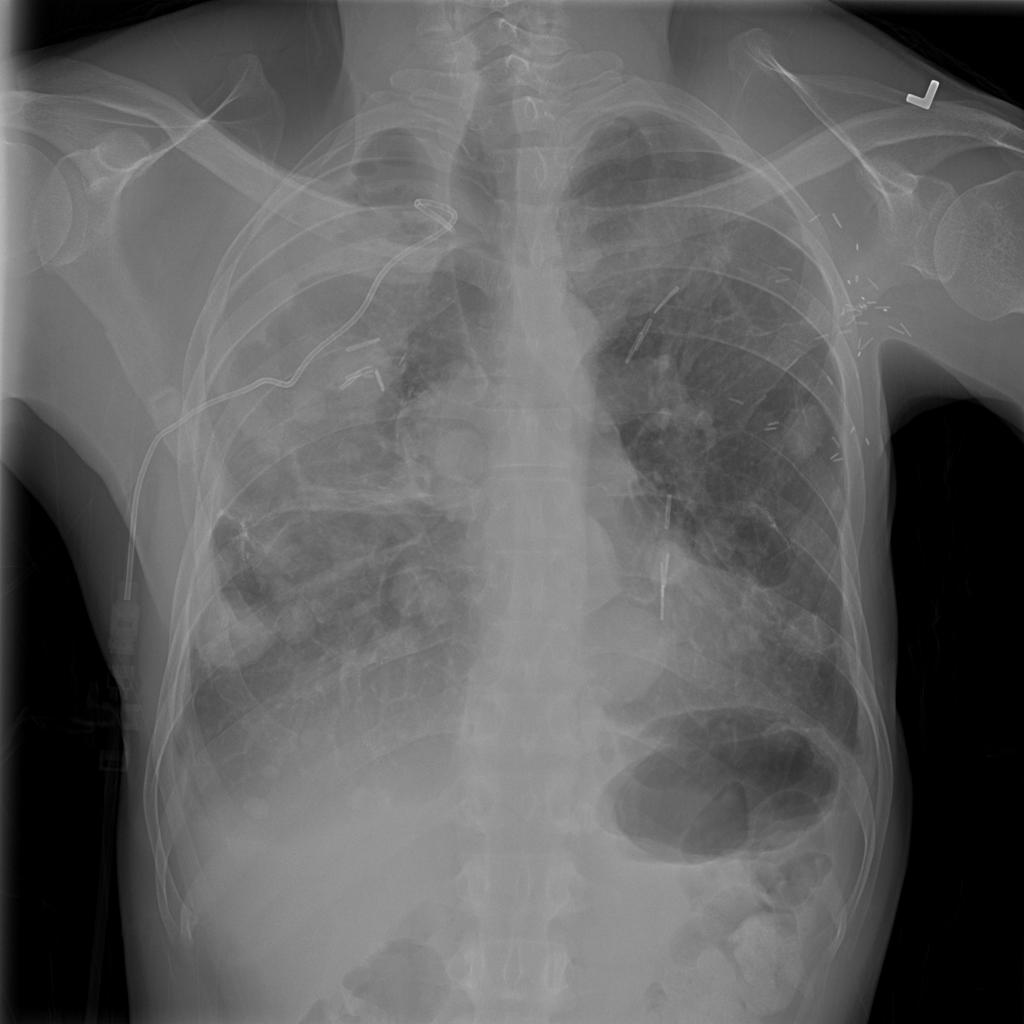nodule: (581, 578, 687, 712), (190, 579, 287, 679), (422, 418, 495, 501), (386, 557, 460, 634), (776, 593, 844, 671), (775, 387, 836, 472), (688, 502, 754, 573), (274, 596, 327, 650), (287, 379, 335, 431)
